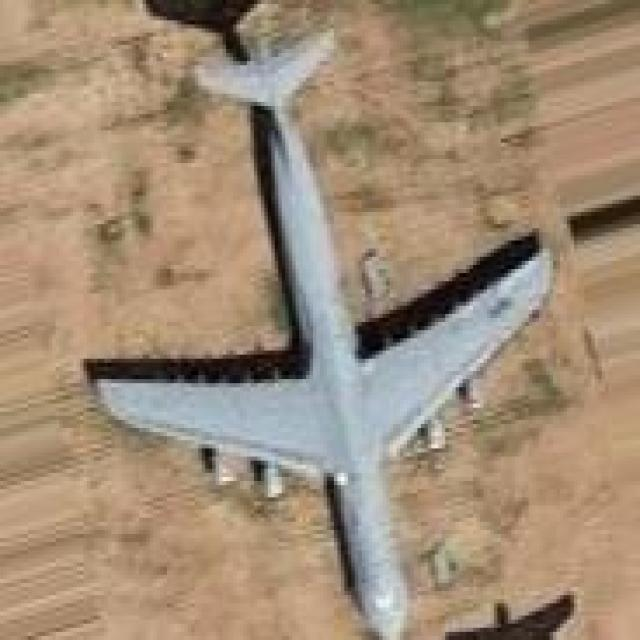C-5_TopDown: (87, 0, 555, 640)
